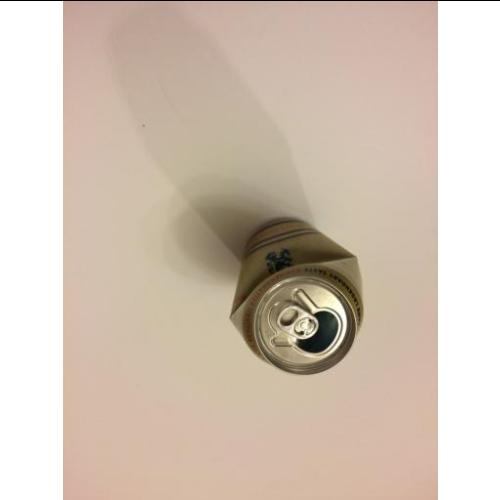metal: (228, 217, 362, 374)
